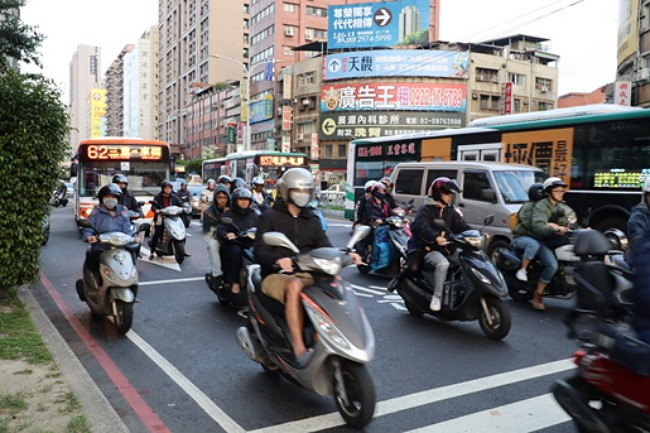car: (71, 136, 174, 225)
pedestrian: (409, 175, 469, 310)
scooter: (237, 251, 401, 416)
